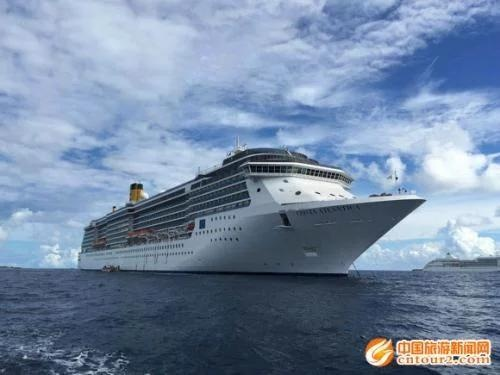youlun: (79, 142, 424, 272)
